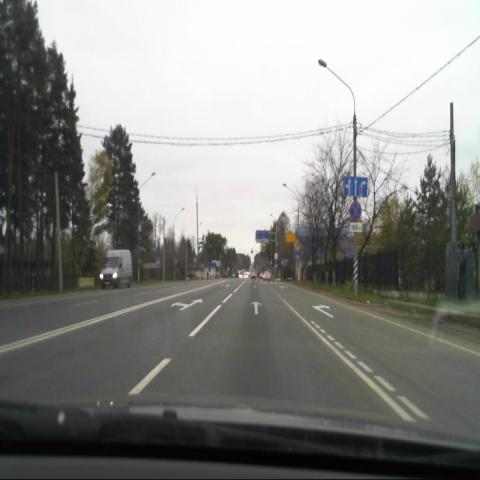5_15_1: (344, 176, 366, 196)
